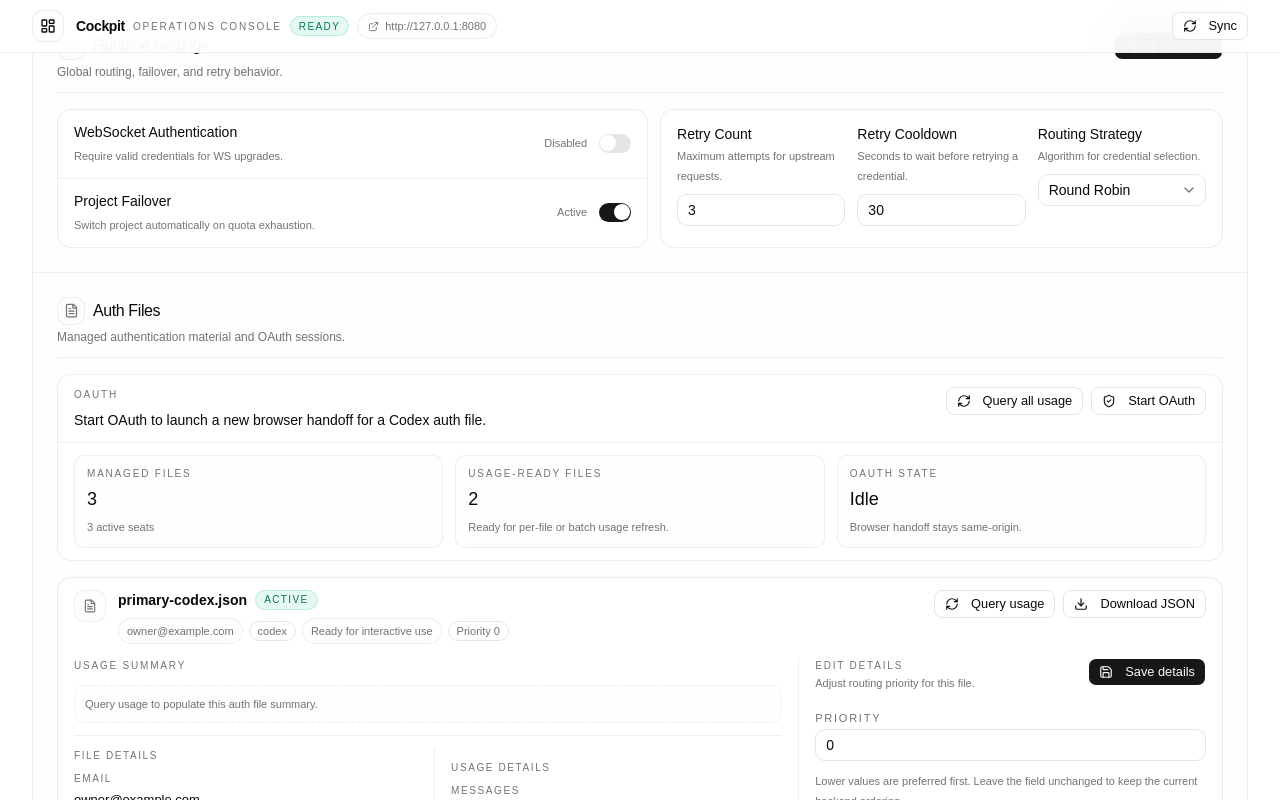
Test: App › shows an error when the browser blocks the oauth popup
Click the button "Start OAuth" at (1149, 400), box [1091,386,1206,414]
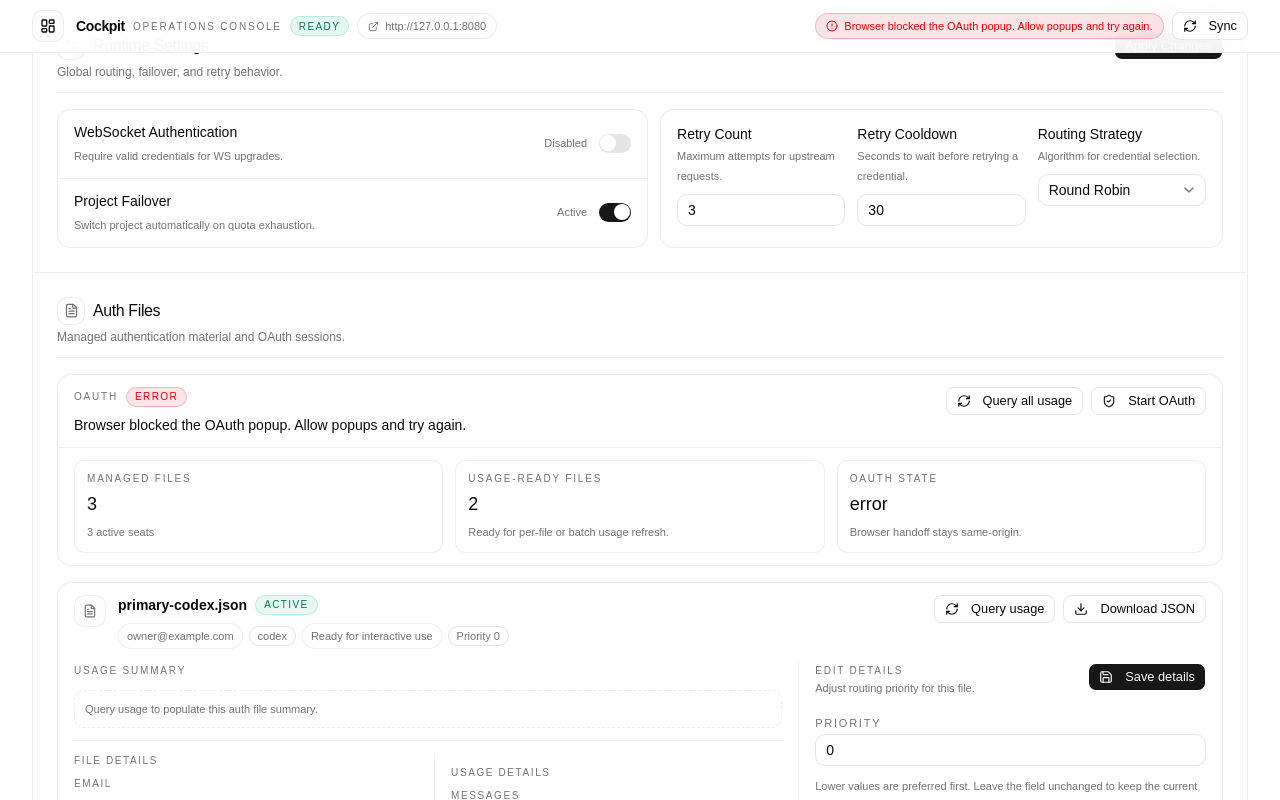
Check: the text "Browser blocked the OAuth popup" is shown, box [844,20,1152,32]
